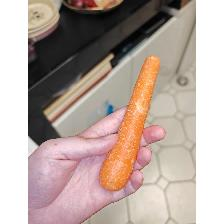Karotte: (98, 54, 162, 192)
